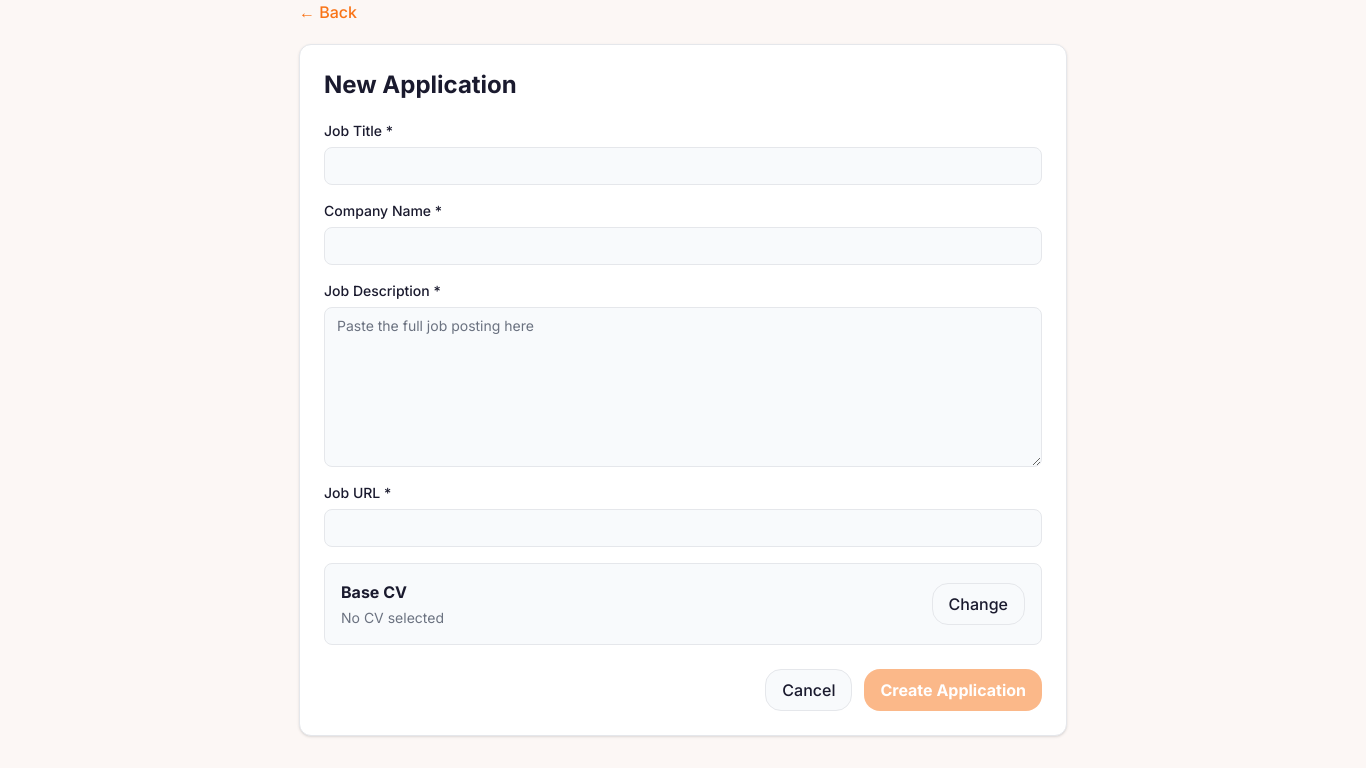
Test: FE-UI-010 — base CV picker › opens ChooseBaseCVModal in choice mode and updates the selected filename
The image size is (1366, 768).
Expected: the heading "Base CV" is shown, [341, 582, 407, 602]
Expected: the text with test id "selected-base-cv-name" reads "No CV selected", [341, 609, 444, 626]
Step 1. Click the button "Change" → (978, 604), box [932, 583, 1025, 625]
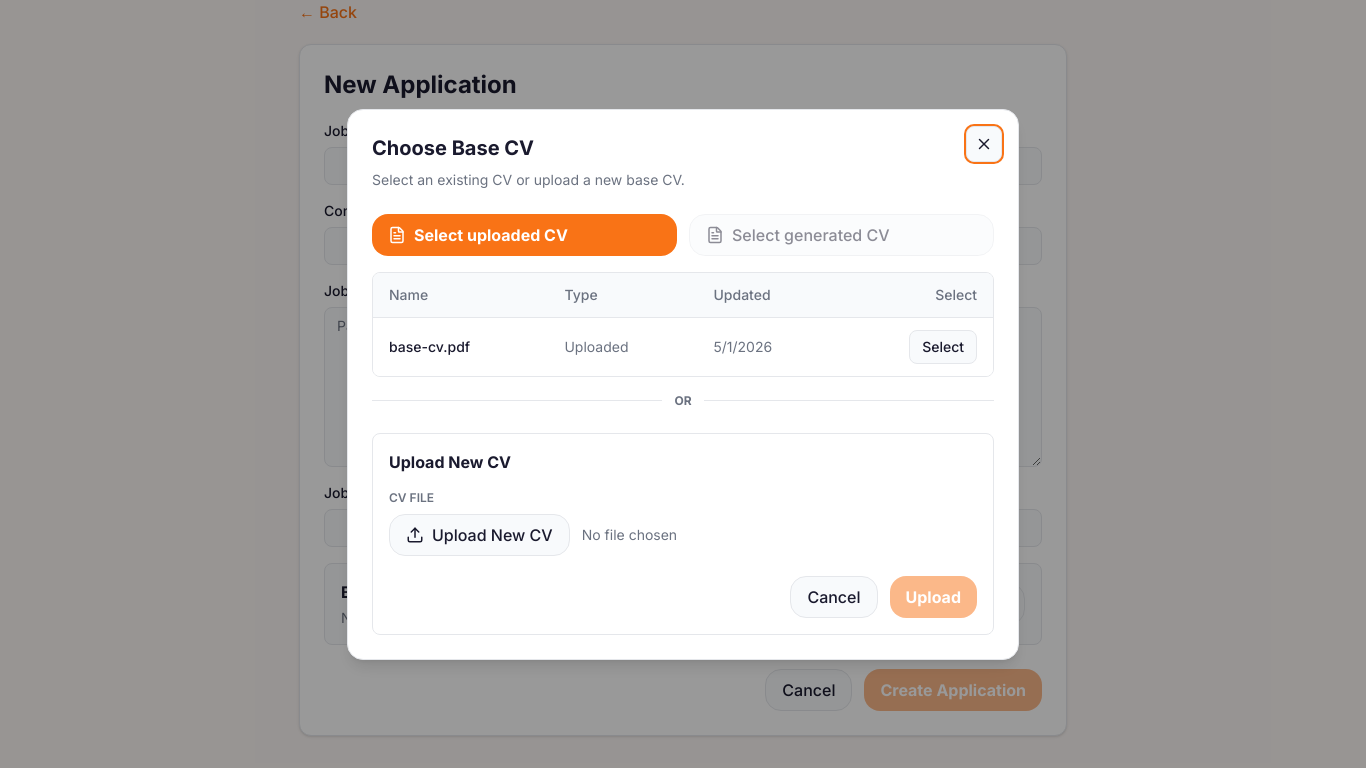
Result: the heading "Choose Base CV" is shown at [372, 136, 534, 160]
Step 2. Click the button "Select" → (943, 346), box [909, 330, 977, 364]
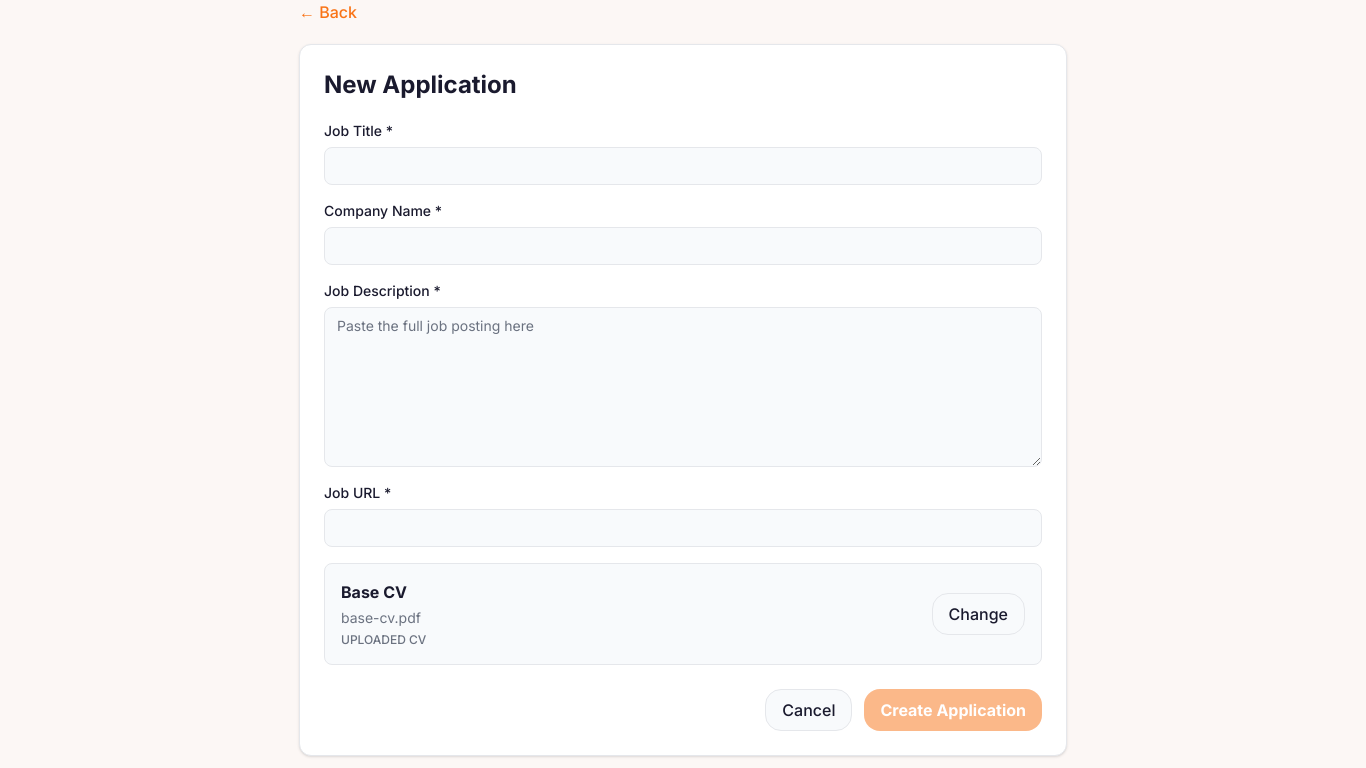
Result: the dialog is gone
Result: the text with test id "selected-base-cv-name" reads "base-cv.pdf" at [341, 609, 421, 626]
